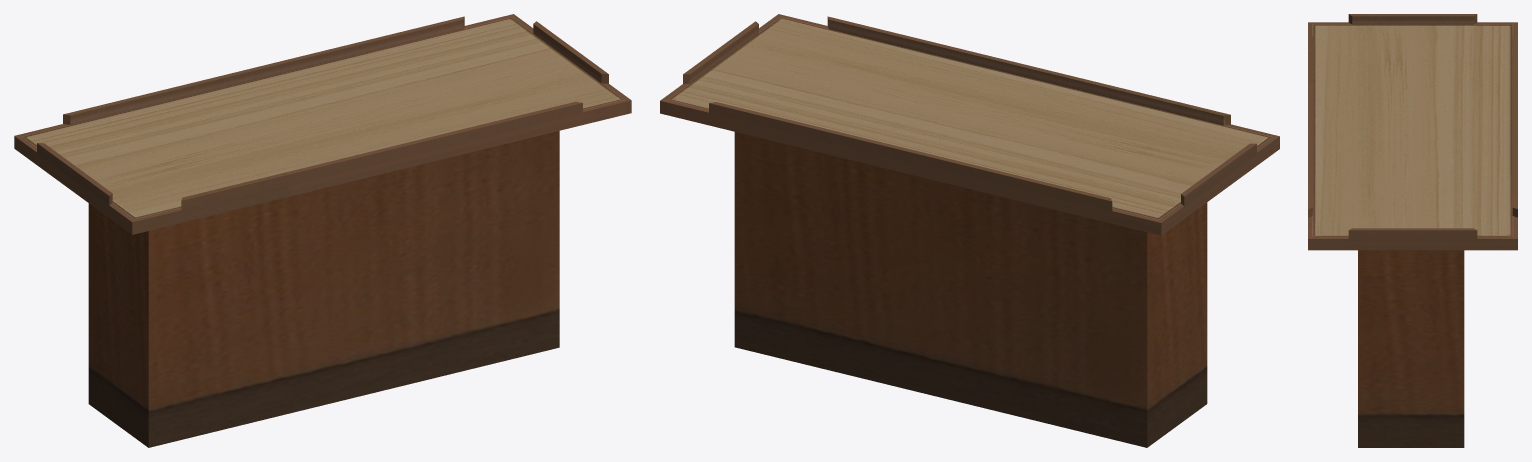
The model's file is Table02.FBX.
3 renders of one model, left to right at view 1: azimuth 30°, elevation 25°; view 2: azimuth 150°, elevation 25°; view 3: azimuth 270°, elevation 25°, orthographic. The views are drawn at different scales.
Visible parts, largest first — view 1: Table02; view 2: Table02; view 3: Table02.
Boxes of the visible parts, x1,y1,x2,y2 form: Table02: (14, 14, 631, 447); Table02: (660, 14, 1279, 447); Table02: (1308, 14, 1517, 447).
Bounding box in the file's own units: 1.05 × 0.5353 × 0.43.
